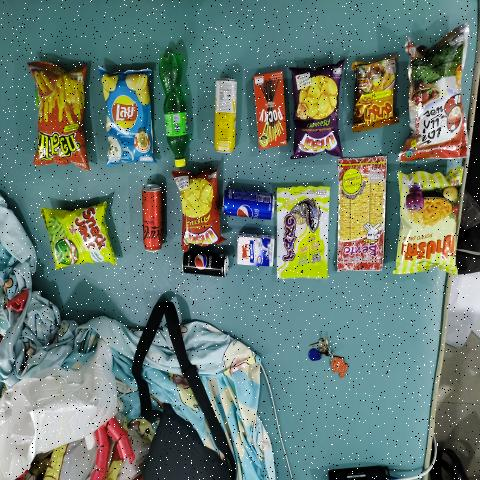bento_red: (339, 162, 382, 269)
coke_red: (144, 184, 163, 252)
fanta_green: (157, 50, 189, 166)
lay_blue: (106, 72, 152, 163)
mama: (354, 61, 394, 122)
paprika: (398, 174, 457, 270)
party_purple: (297, 70, 337, 153)
party_red: (182, 174, 217, 244)
pepsi_black: (182, 254, 229, 277)
pepsi_blue: (222, 188, 273, 221)
pokki: (254, 74, 286, 147)
singha_yellow: (215, 74, 238, 155)
snack_jack: (48, 208, 112, 264)
taokaenoi: (410, 41, 462, 155)
taro_yellow: (276, 192, 327, 278)
thai_denmark: (237, 234, 274, 269)
twisco: (40, 72, 85, 166)
